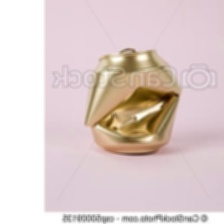can: (80, 46, 185, 164)
